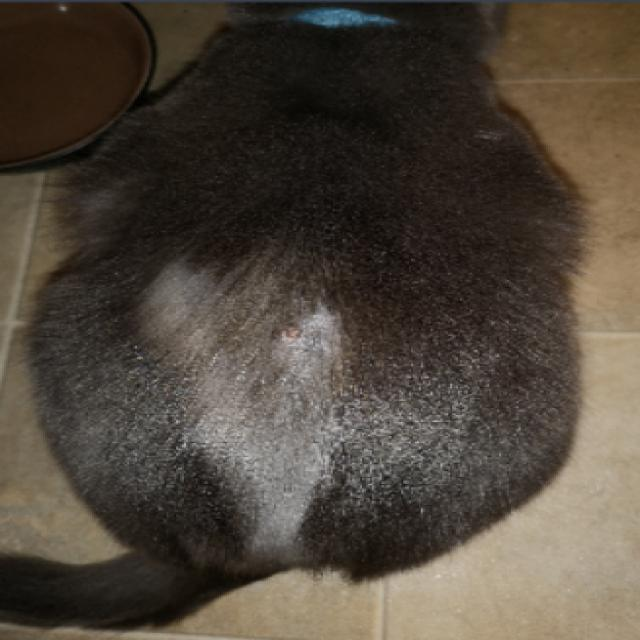hac lao: (168, 259, 415, 419)
